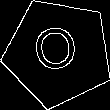O_S: (33, 24, 84, 81)
